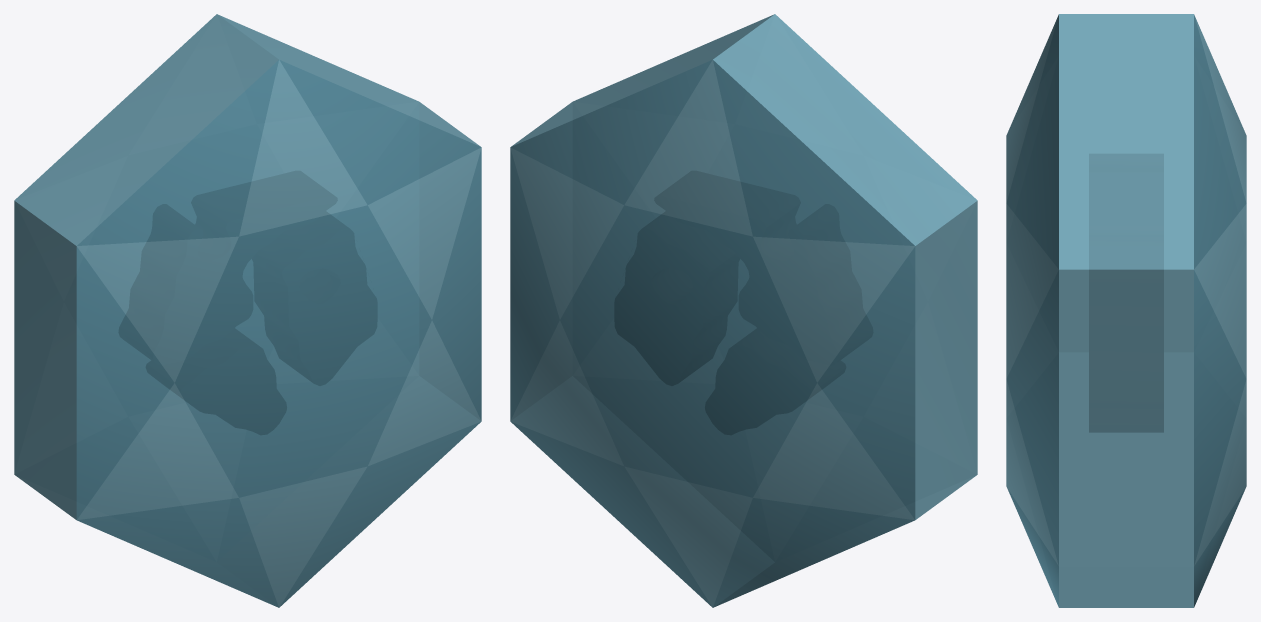
3 renders of one model, left to right at view 1: azimuth 30°, elevation 25°; view 2: azimuth 150°, elevation 25°; view 3: azimuth 270°, elevation 25°, orthographic. The views are drawn at different scales.
Parts seen in each view (by area): view 1: body; view 2: body; view 3: body.
Boxes of the visible parts, bbox=[...] form: body: bbox=[14, 14, 481, 607]; body: bbox=[510, 14, 977, 607]; body: bbox=[1006, 14, 1246, 607].
Size of the model in its own units: 0.1933 by 0.25 by 0.0916.
2 materials, 2 textured.
